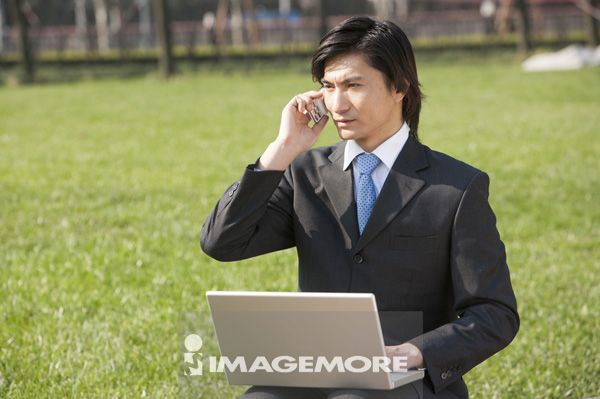talk: (275, 71, 377, 147)
